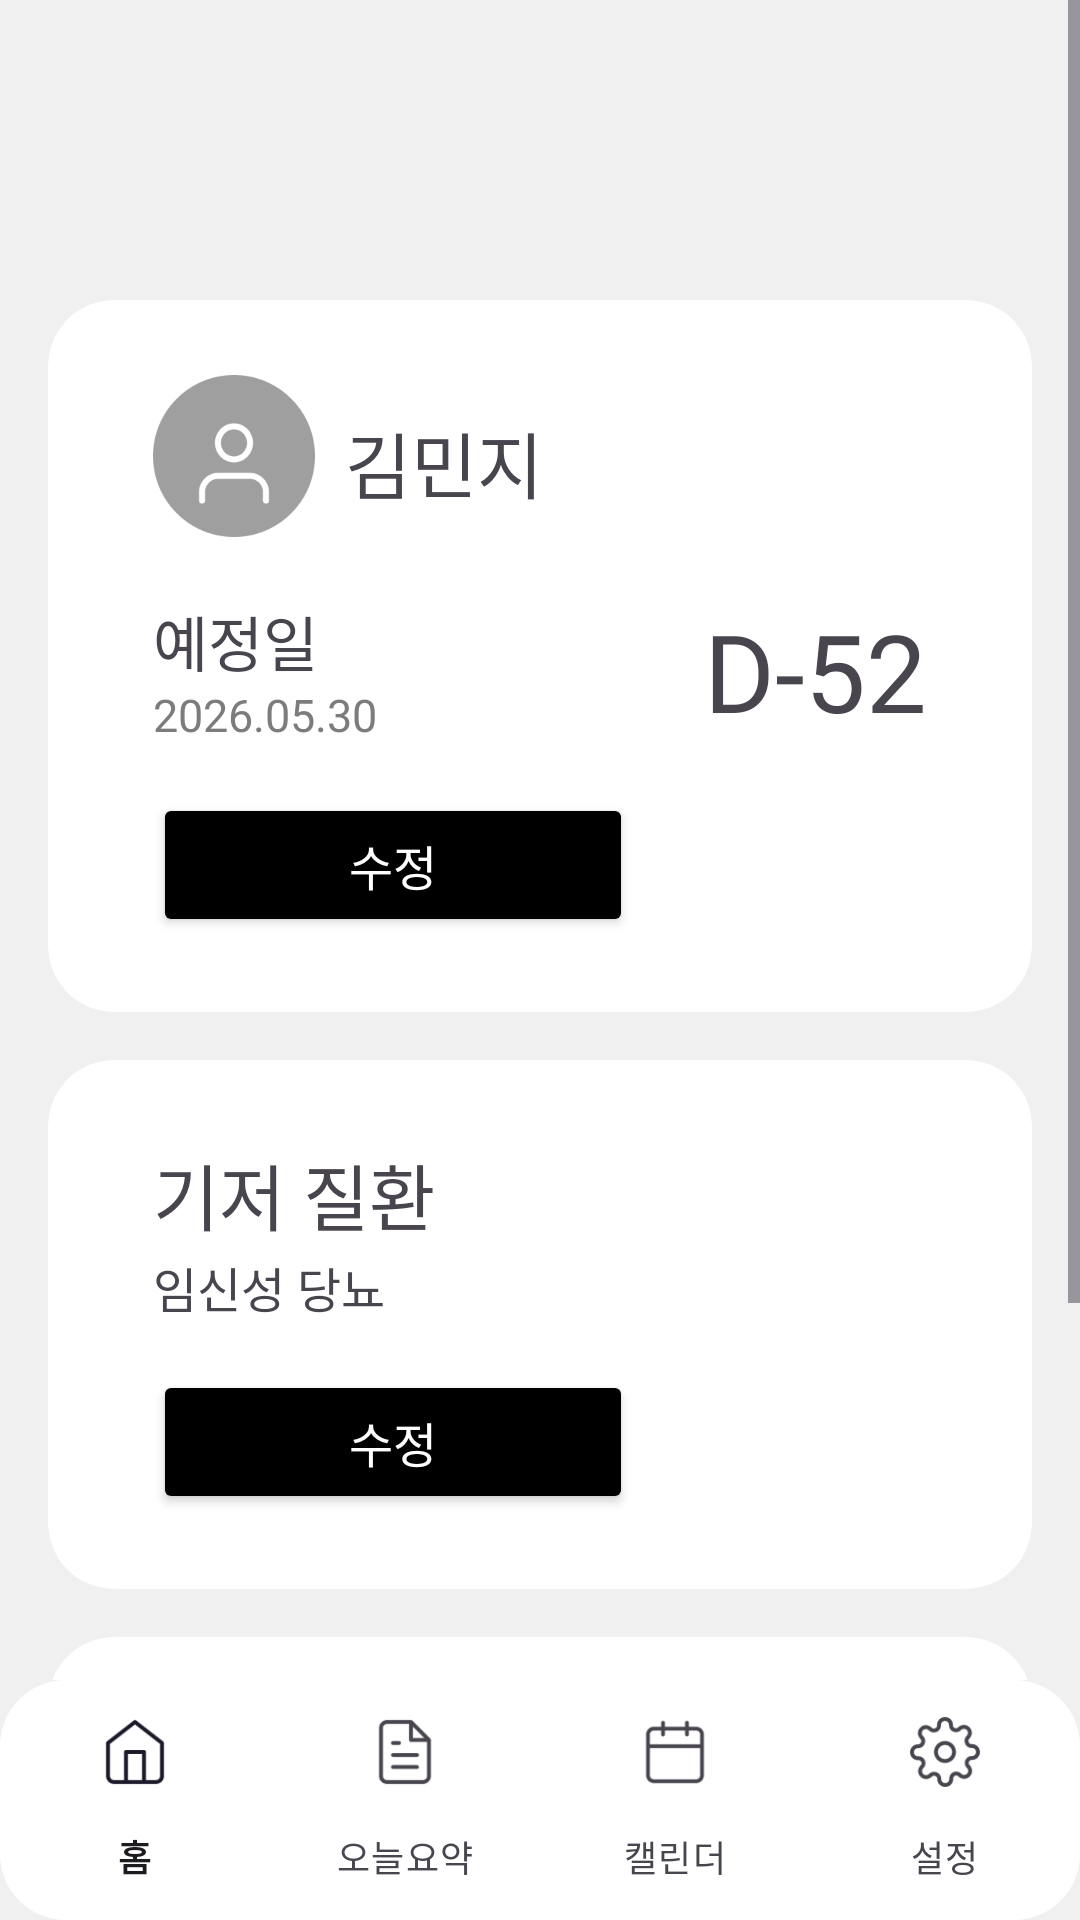

Where icons sit on this 1080 x 1920 app screen, as (x1, y1, x2, y2):
profile: (153, 375, 315, 537)
